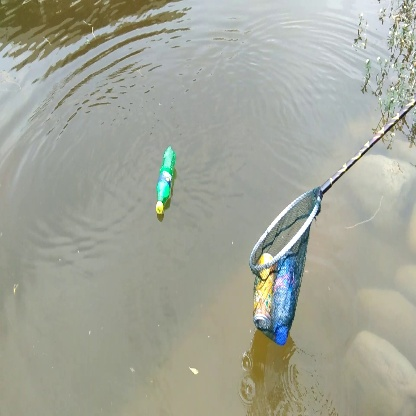bottle: (154, 145, 177, 217)
